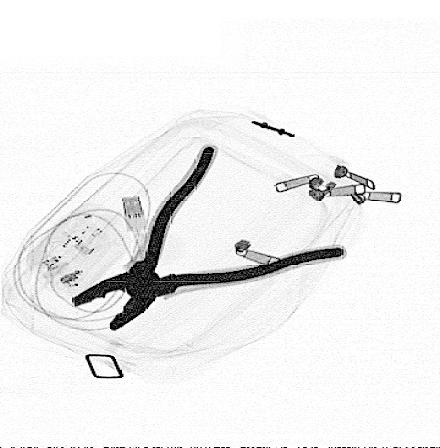Pliers: (68, 141, 352, 335)
